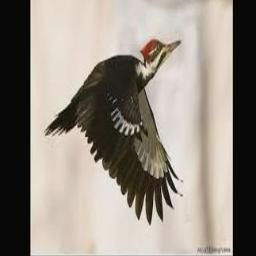Woodpecker: (44, 39, 184, 225)
